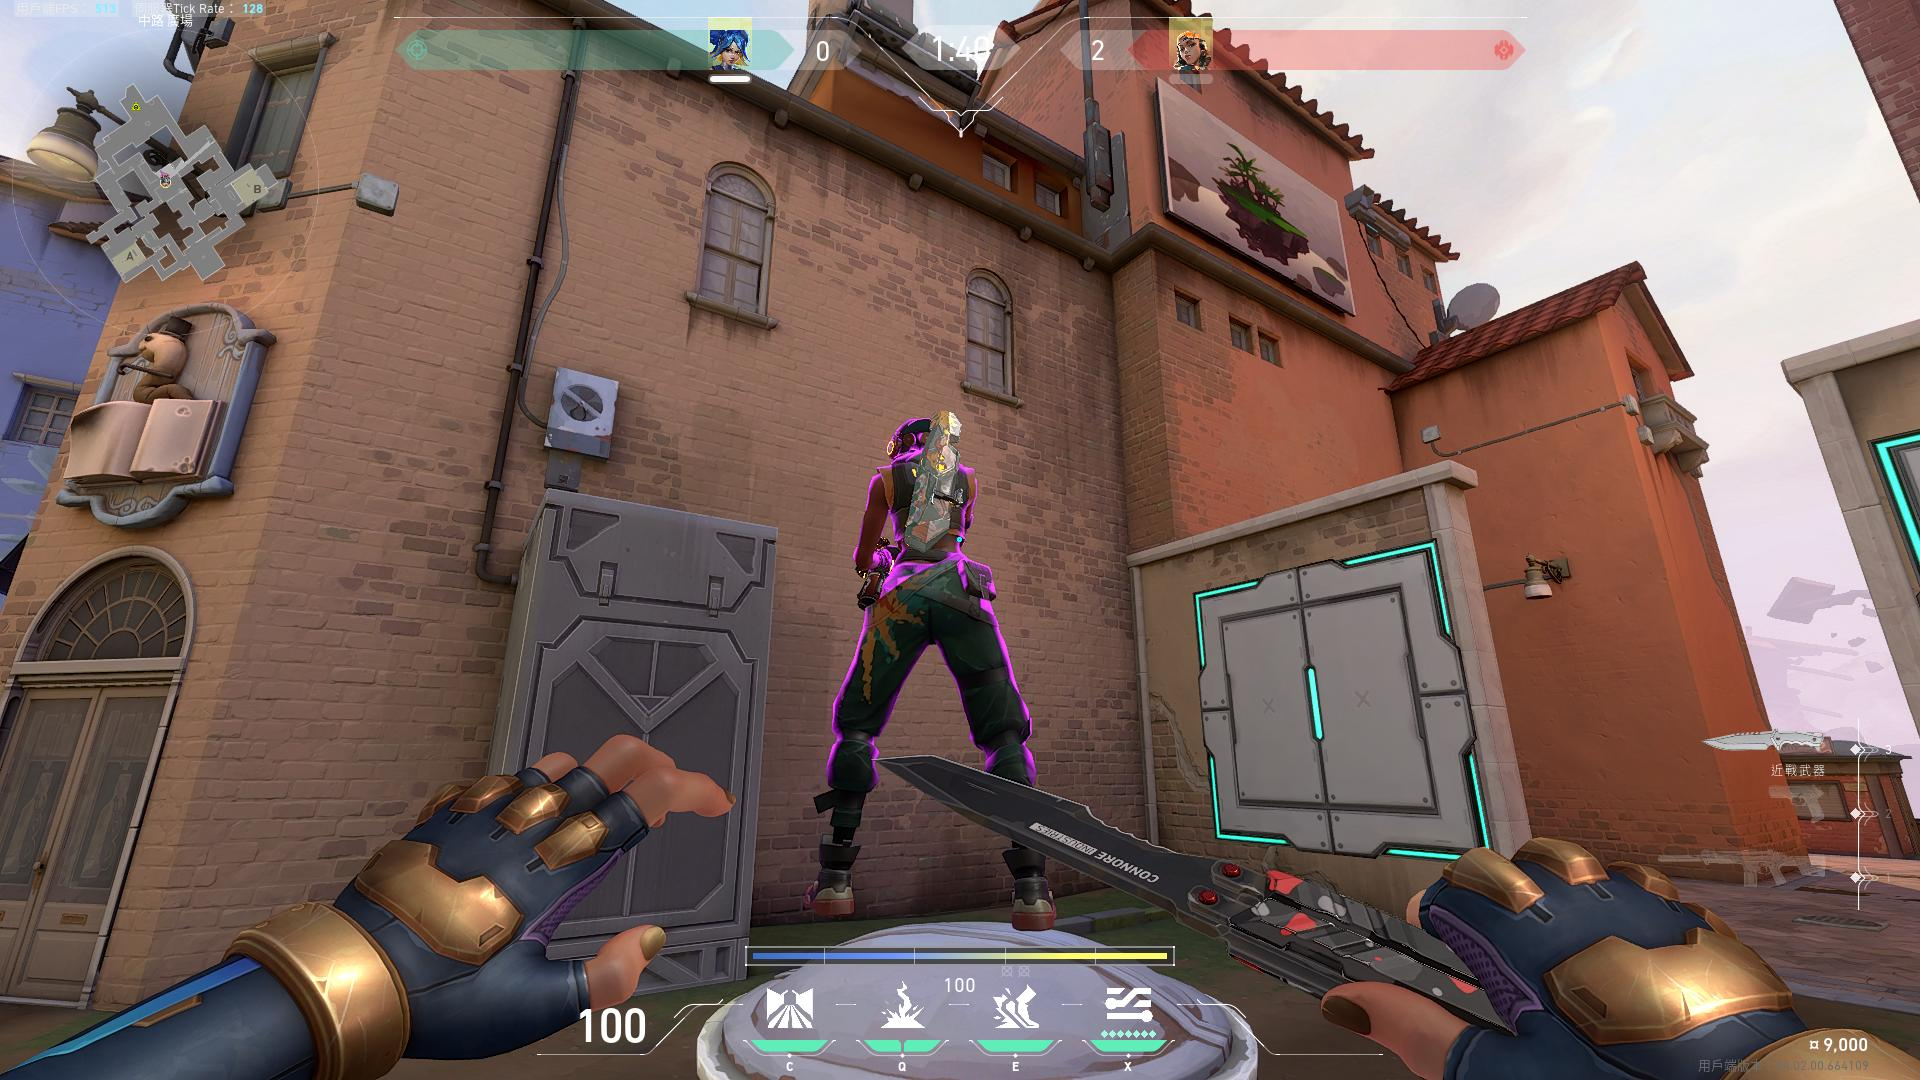enemyBody: (882, 484, 975, 585)
enemyHead: (897, 423, 953, 465)
